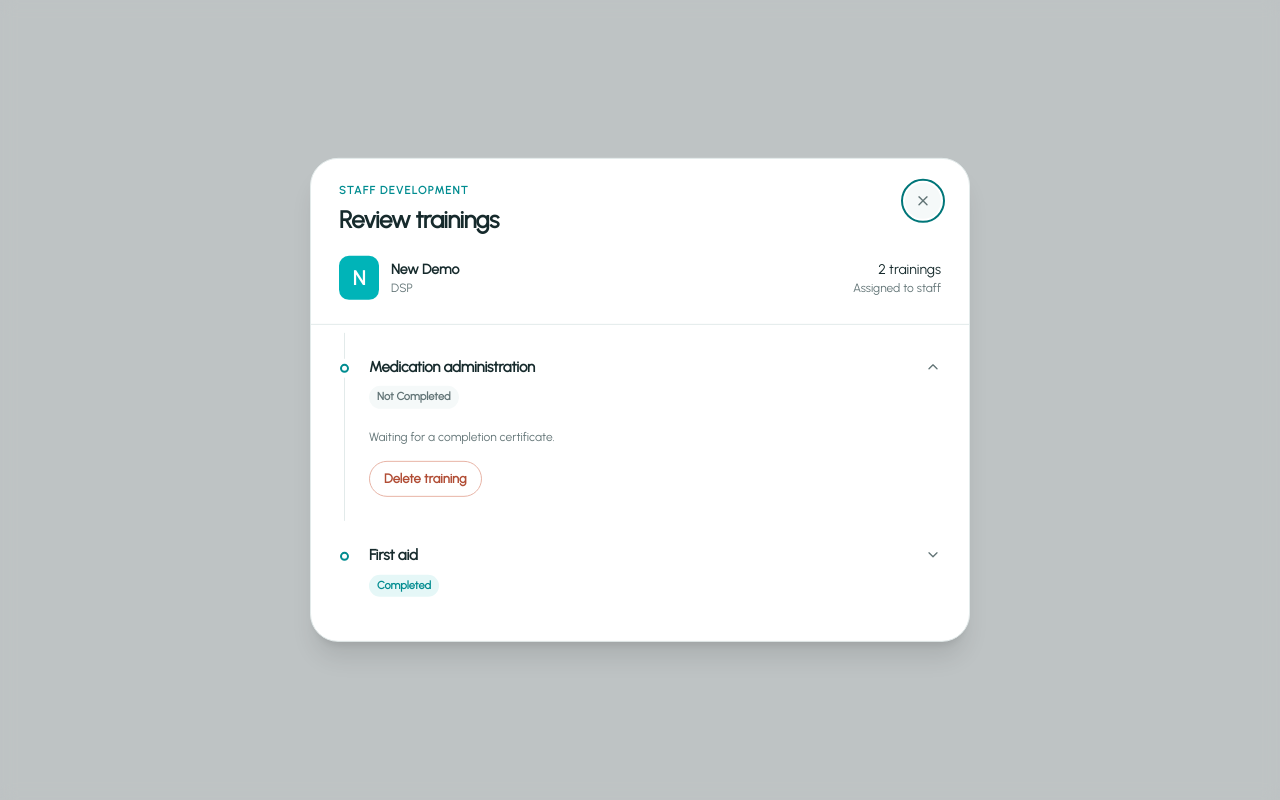
it: deletes an uncompleted assigned training after confirmation and keeps completed ones
The width and height of the screenshot is (1280, 800).
Click the button with aria-label "Delete Medication administration": (425, 479) [369,461,482,497]
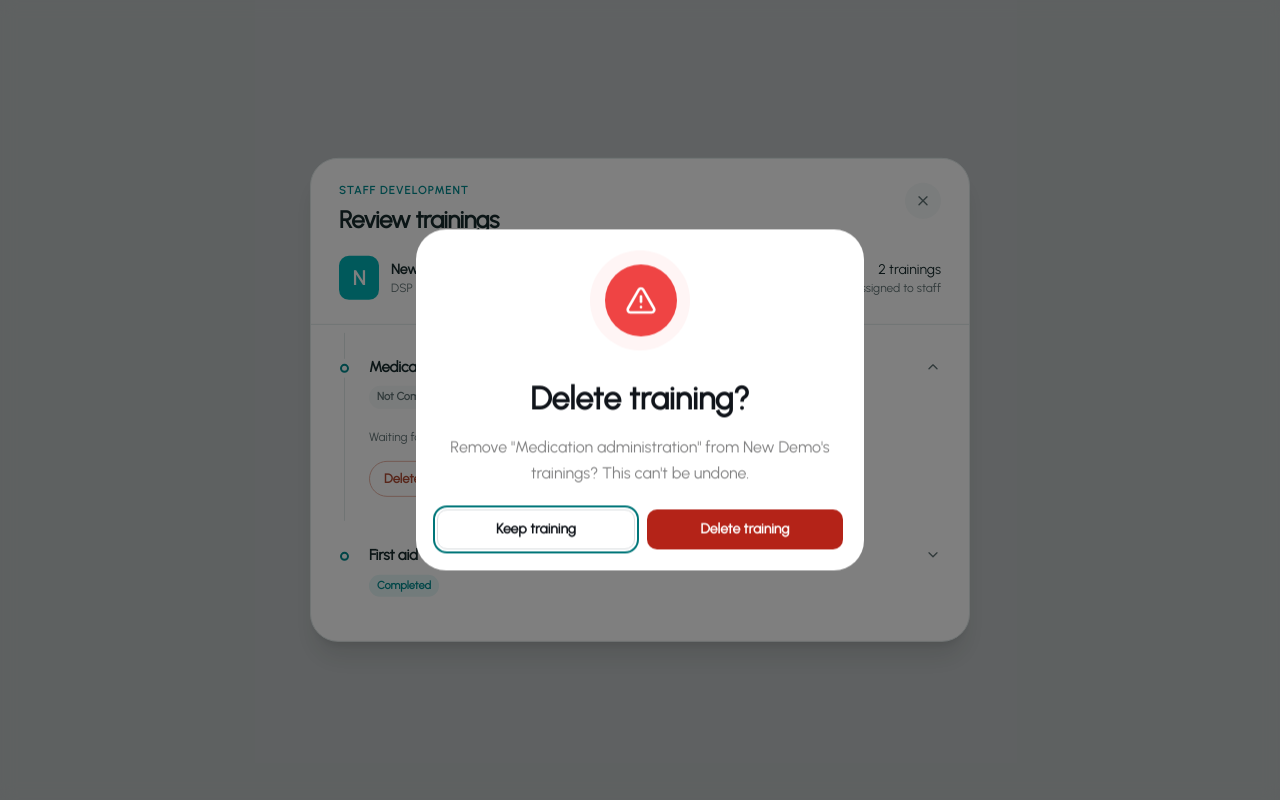
Click the button "Delete training": (745, 530) [647,510,843,550]
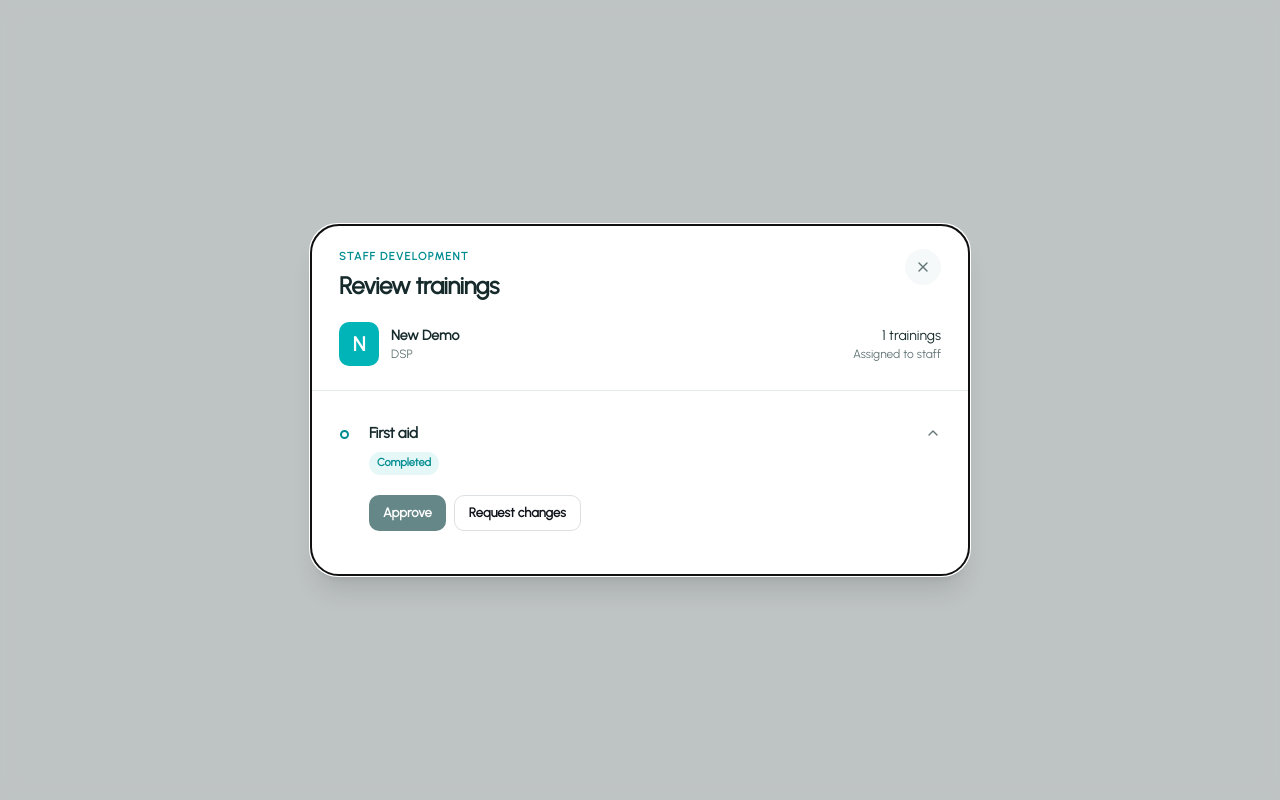
Expected: the heading "Medication administration" is gone
